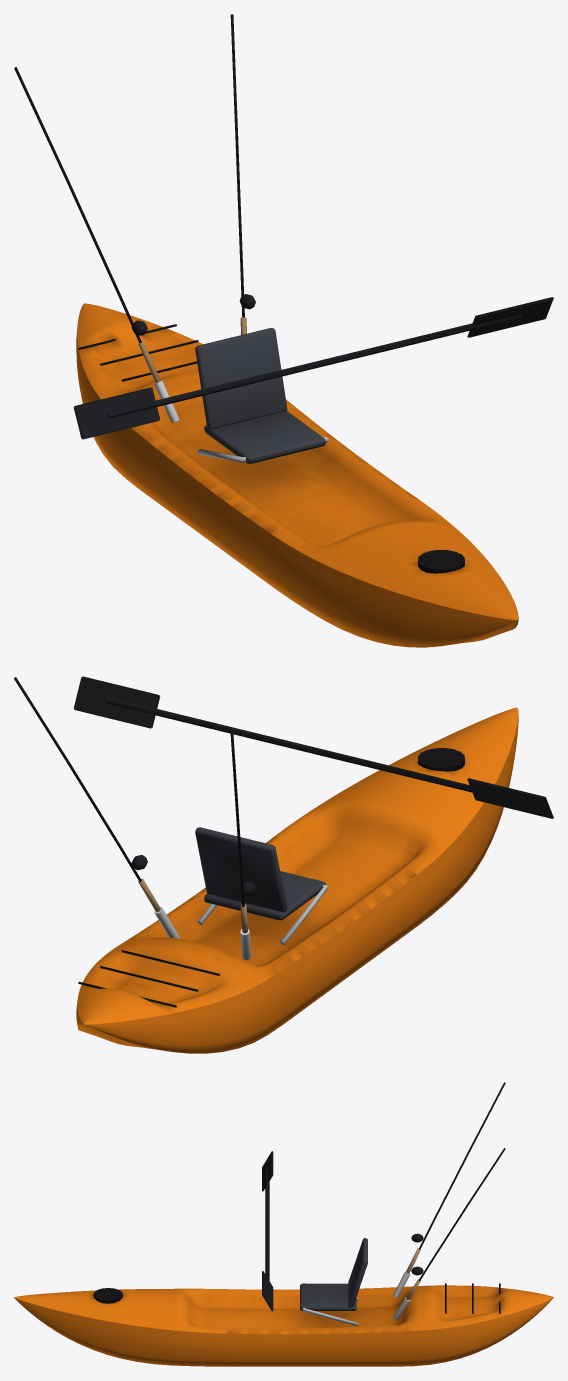
The model's file is boat-kayak.glb.
3 renders of one model, top to bottom at view 1: azimuth 30°, elevation 25°; view 2: azimuth 150°, elevation 25°; view 3: azimuth 270°, elevation 25°, orthographic. The views are drawn at different scales.
Parts seen in each view (by area): view 1: body, paddle; view 2: body, paddle; view 3: body, paddle.
Boxes of the visible parts, x1=… form: body: x1=14, y1=14, x2=518, y2=647; paddle: x1=73, y1=297, x2=553, y2=439; body: x1=14, y1=677, x2=518, y2=1053; paddle: x1=73, y1=676, x2=553, y2=818; body: x1=14, y1=1082, x2=553, y2=1366; paddle: x1=262, y1=1151, x2=273, y2=1311.
Size of the model in its own units: 2.52 by 1.92 by 4.
